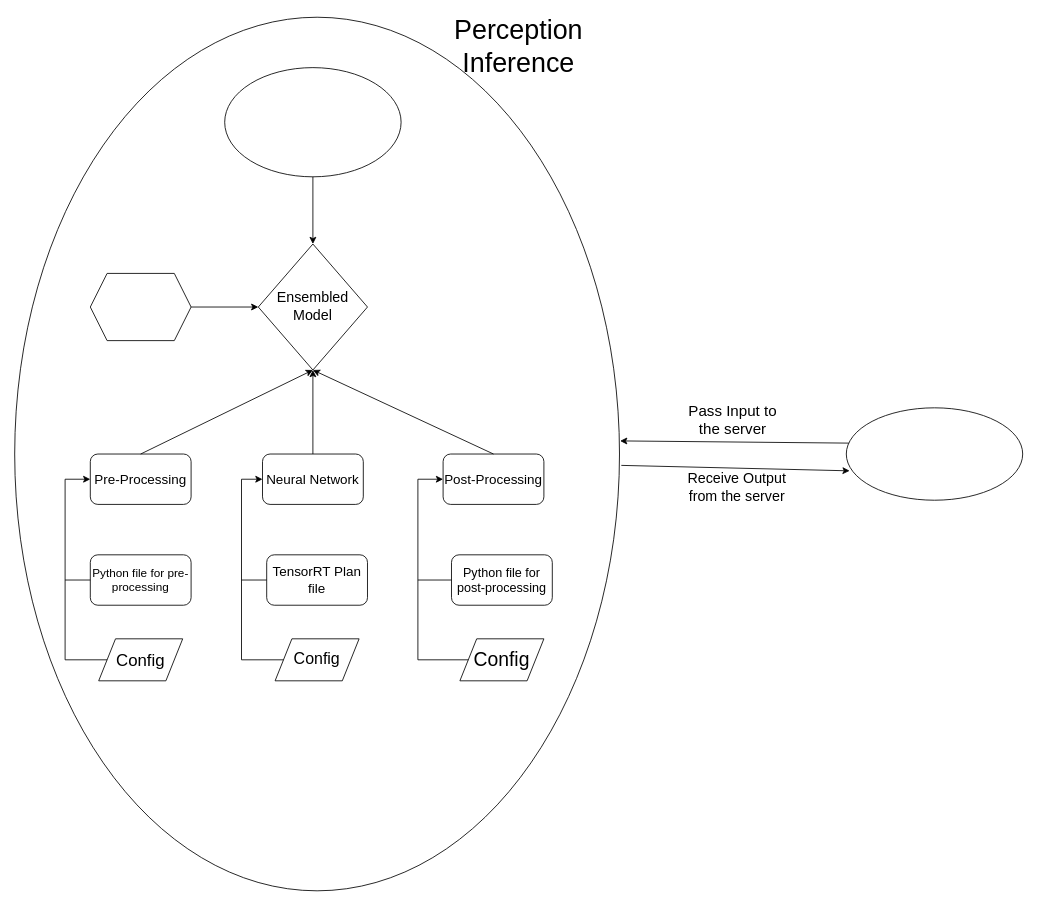
Image size: 1037x906. Some labels were removed from this diagram. The centre of each missing label's shape, as x and y in pixels:
"Ensemble Scheduling + Step Config" belongs at (140,307).
"gRPC Client" belongs at (934,453).
"Triton Inference Server" belongs at (312,122).
